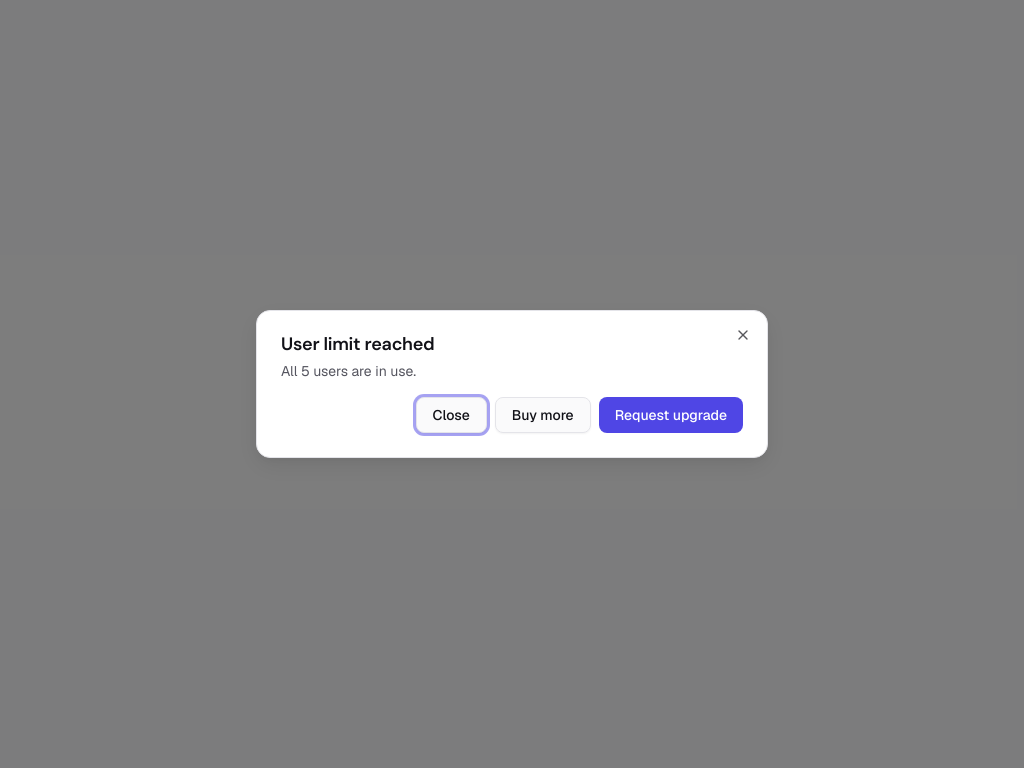
Test: Buy more entry points › the limit-reached dialog offers Buy more next to the upgrade, and an extra-users purchase for a seat limit
Expected: the button "Request upgrade" is shown, x1=599 y1=397 x2=743 y2=433
Click the button with test id "allowance-buy-more" at [543, 415], box x1=495 y1=397 x2=591 y2=433
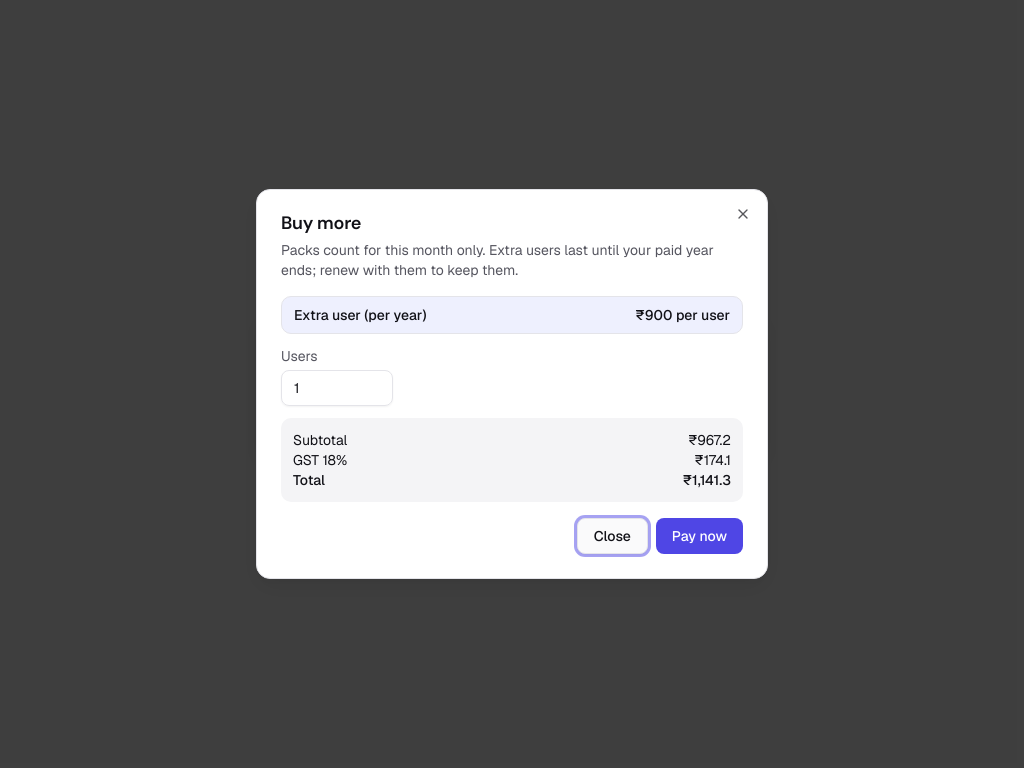
Result: the radio button with test id "buy-more-extra_user" is shown at x1=281 y1=296 x2=743 y2=334
